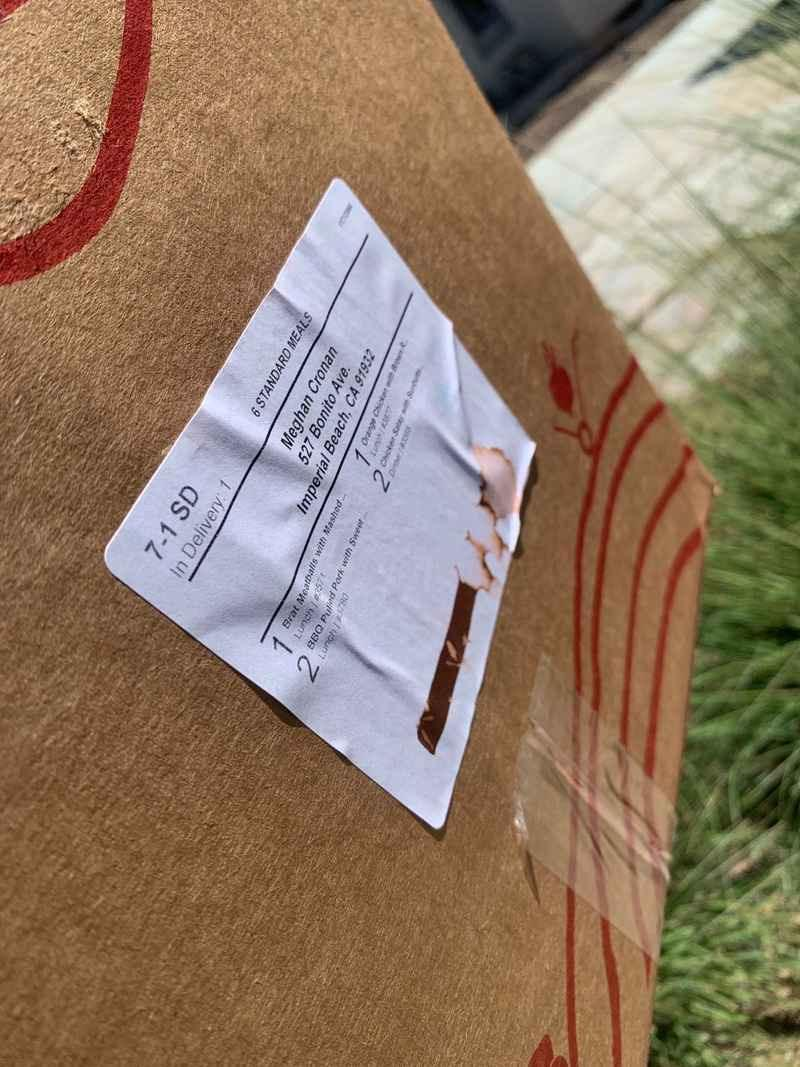package: (0, 8, 726, 1067)
